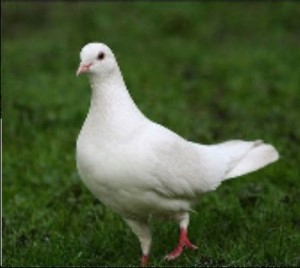pigeon: (74, 39, 281, 262)
